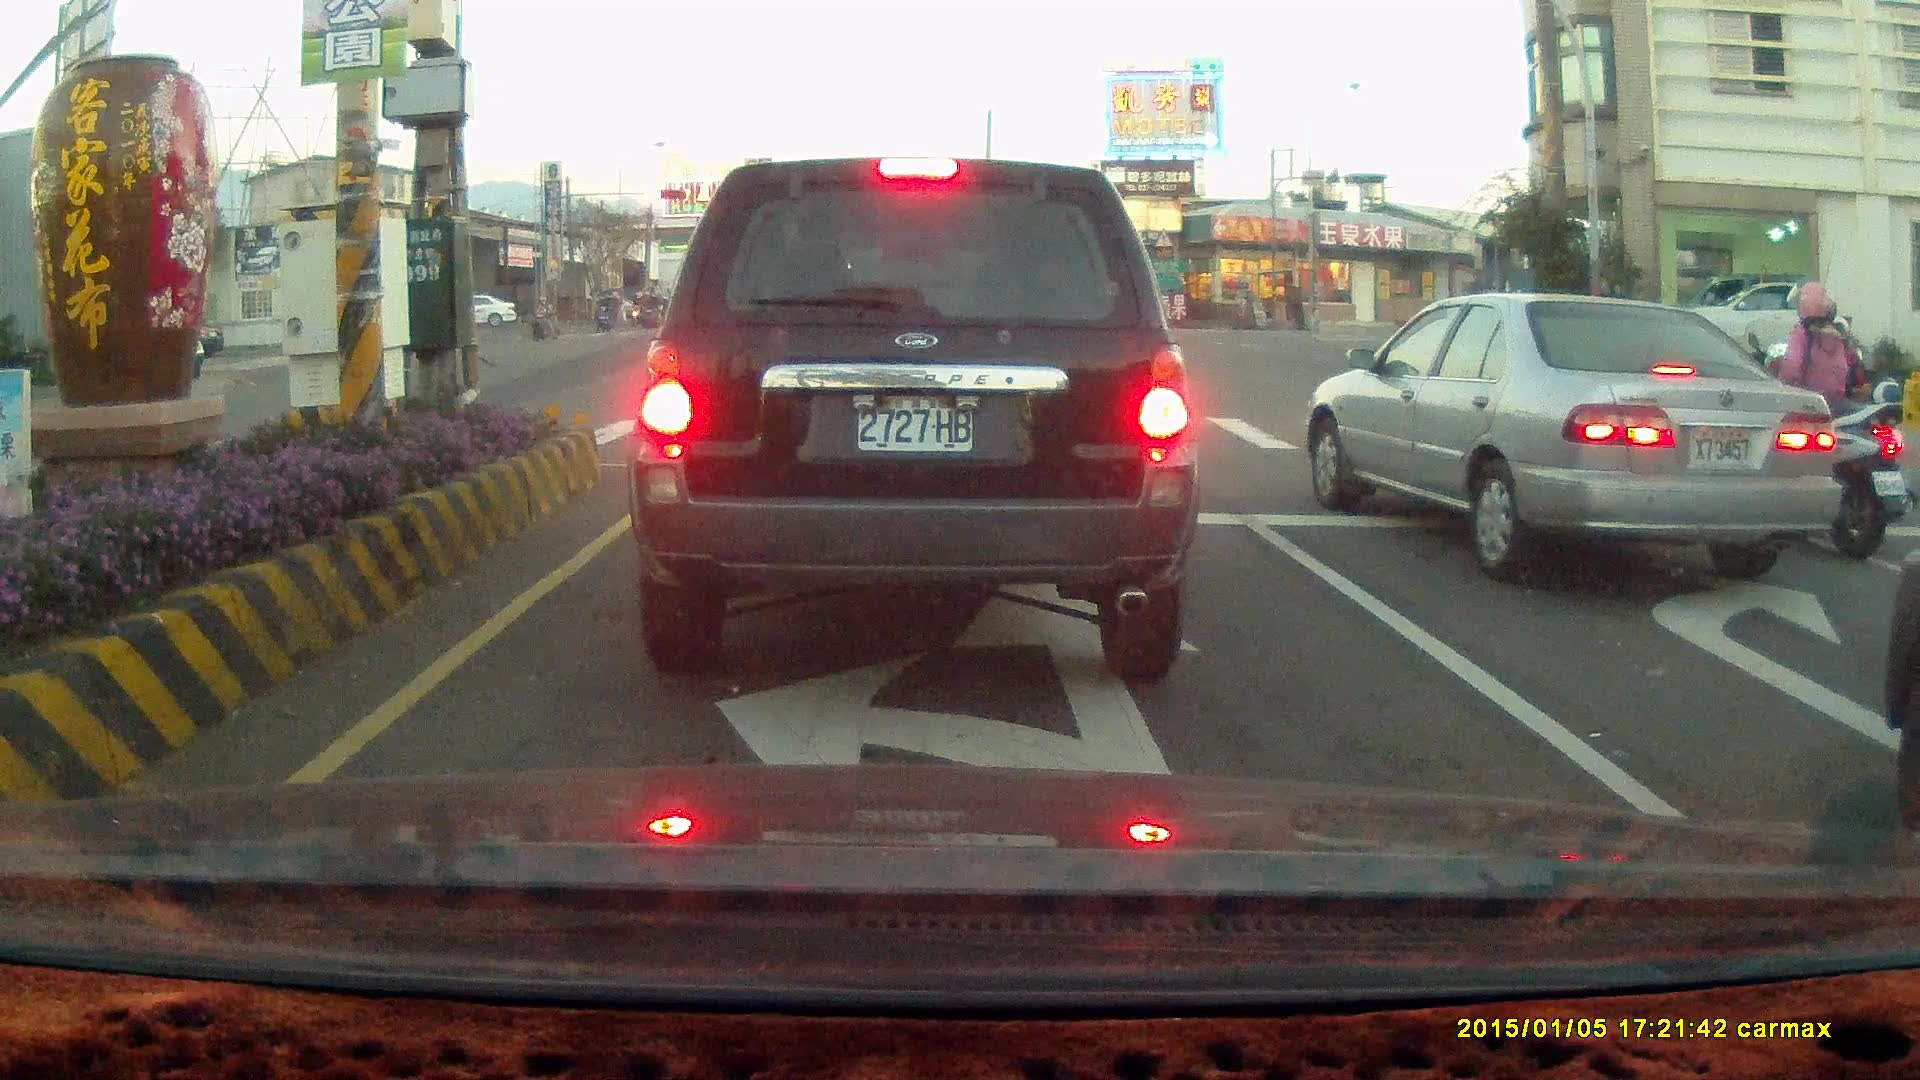rider: (1689, 274, 1915, 559), (528, 290, 562, 338), (593, 291, 614, 332), (643, 289, 664, 326)
vehicle: (625, 154, 1198, 686), (1301, 290, 1843, 583), (1315, 293, 1847, 579), (1650, 273, 1848, 367), (1668, 275, 1823, 373), (1883, 492, 1920, 850)
